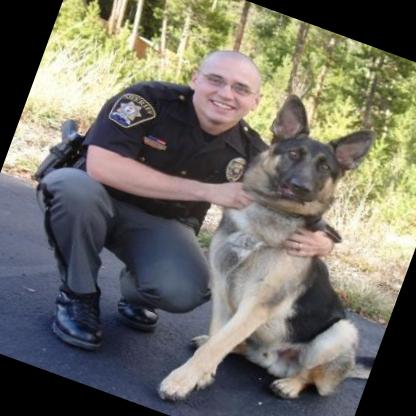German_shepherd: (152, 77, 416, 416)
